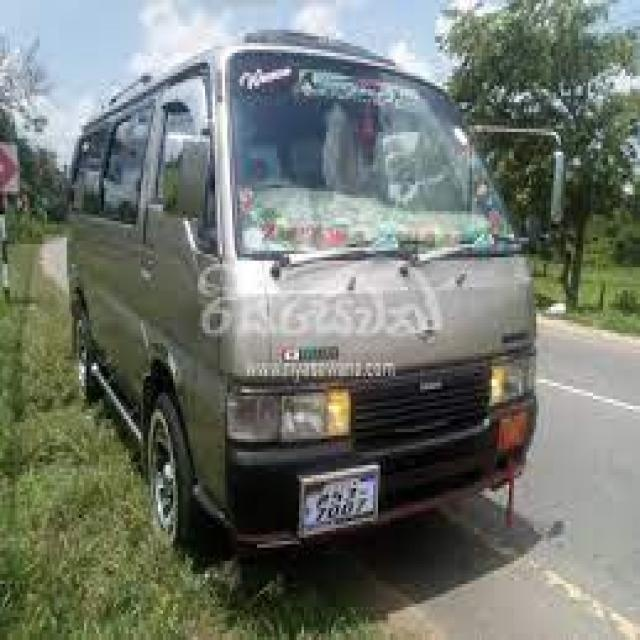Van: (57, 26, 567, 564)
